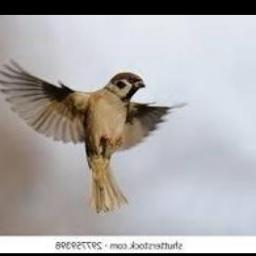Sparrow: (0, 58, 188, 213)
